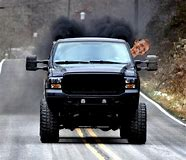smoke: (41, 14, 136, 39)
